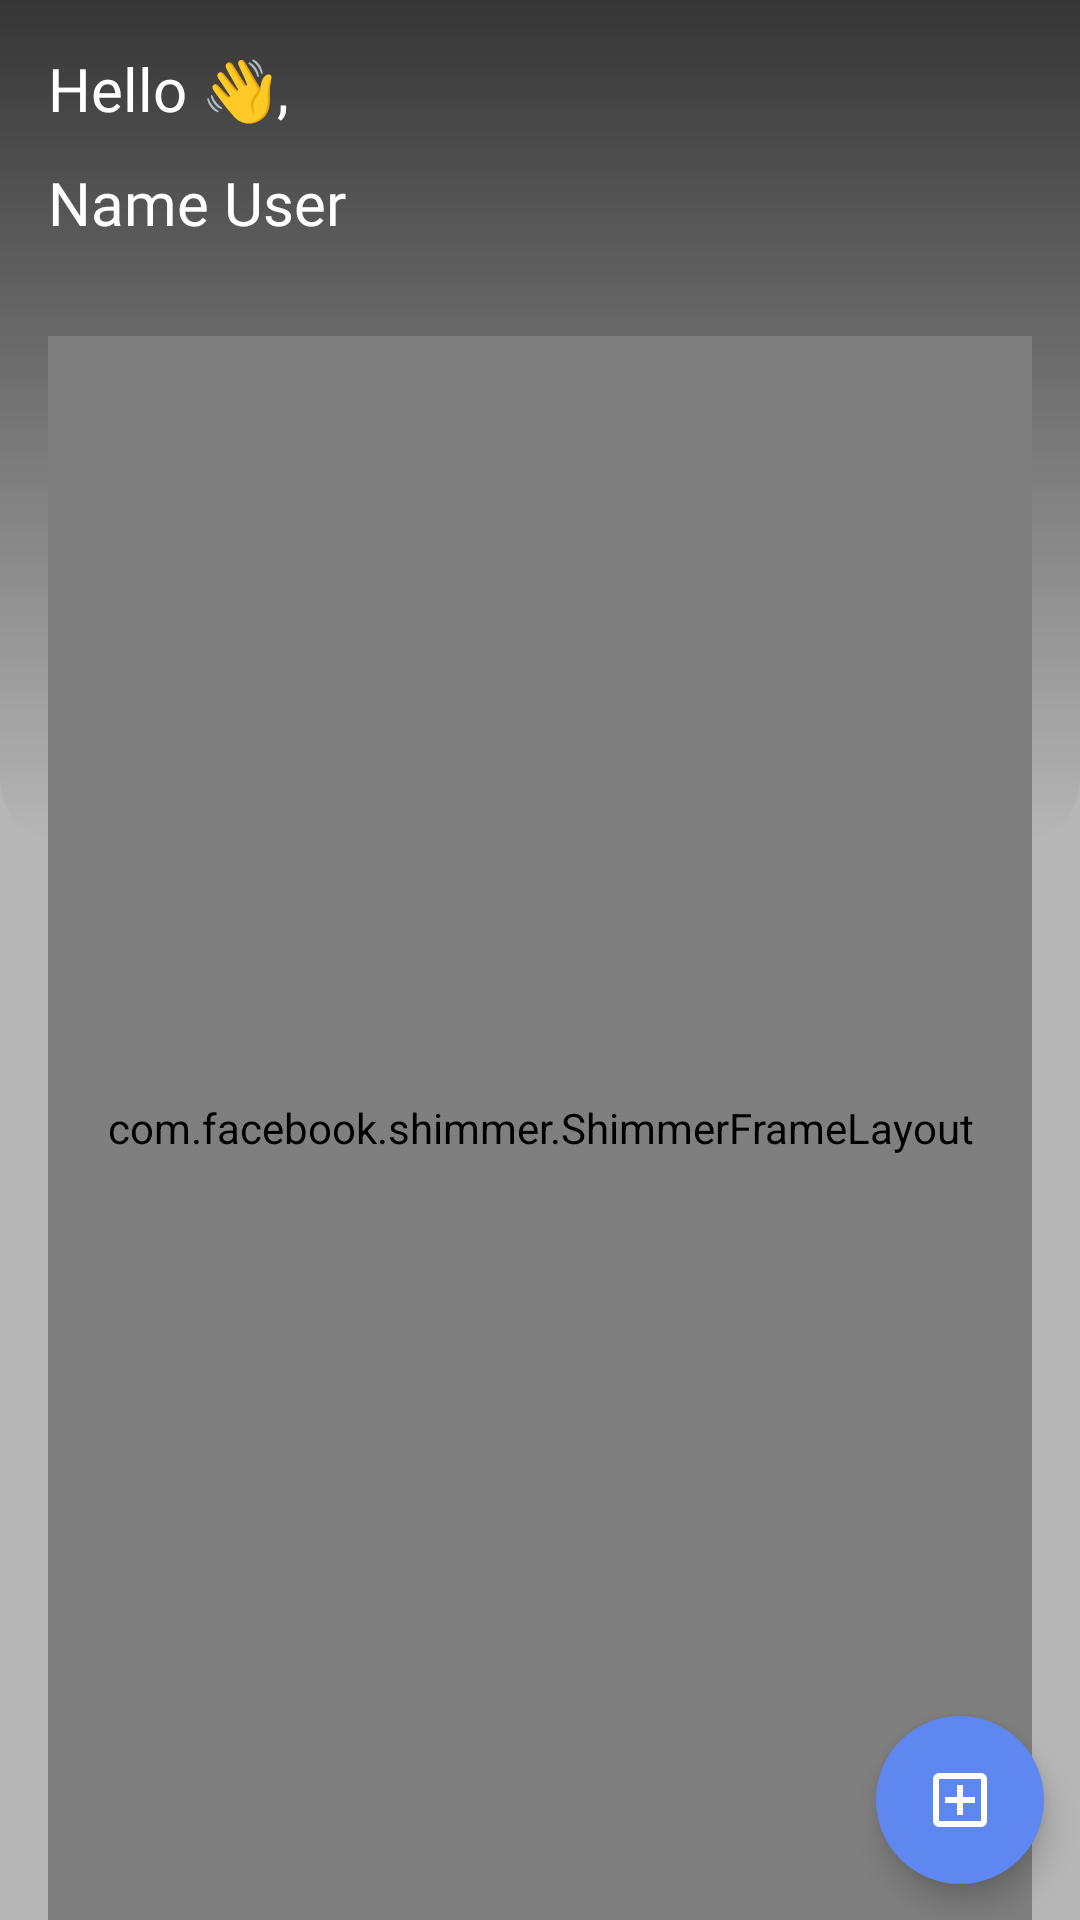

Icons on this 1080 × 1920 Android screen, each with the point to tap as point (x, y):
Add post content: point (960, 1800)
